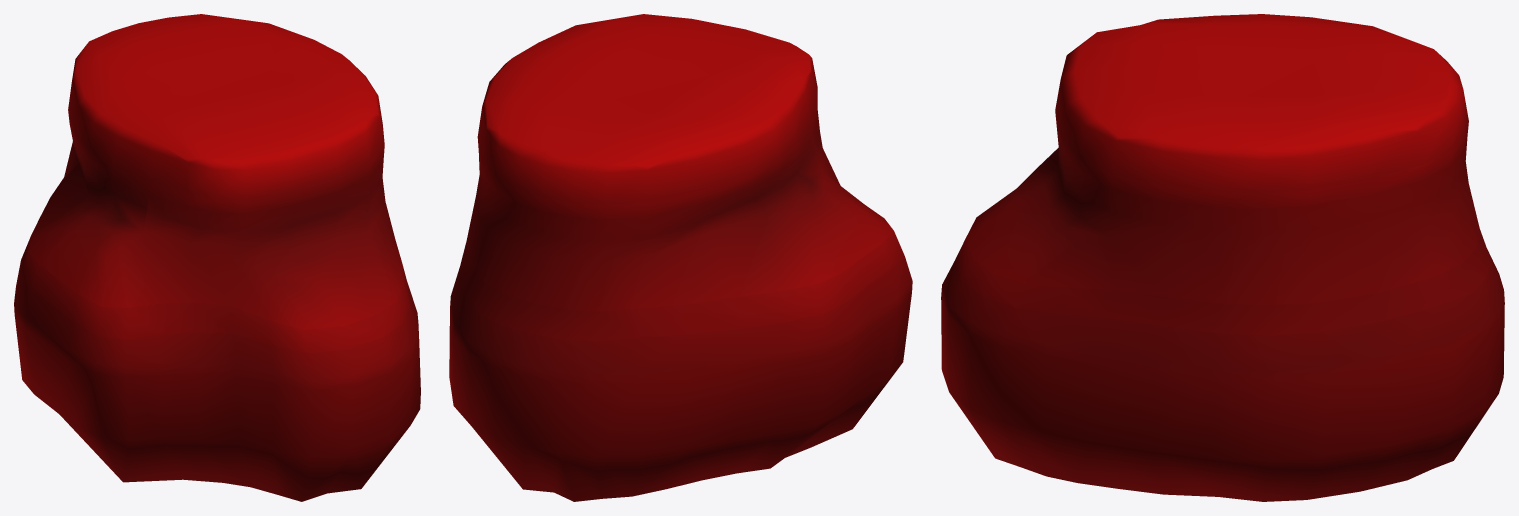
The model's file is geology-landforms-sandstonemesamedium_v3.fbx.
The picture shows the model from 3 angles, left to right: view 1: azimuth 30°, elevation 25°; view 2: azimuth 150°, elevation 25°; view 3: azimuth 270°, elevation 25°; orthographic projection. The views are drawn at different scales.
Parts seen in each view (by area): view 1: SandStoneMesaMedium_v3; view 2: SandStoneMesaMedium_v3; view 3: SandStoneMesaMedium_v3.
Boxes of the visible parts, bbox=[...] form: SandStoneMesaMedium_v3: bbox=[14, 14, 420, 501]; SandStoneMesaMedium_v3: bbox=[449, 14, 912, 501]; SandStoneMesaMedium_v3: bbox=[941, 14, 1504, 501].
Bounding box in the file's own units: 33.41 × 30.15 × 41.07.
